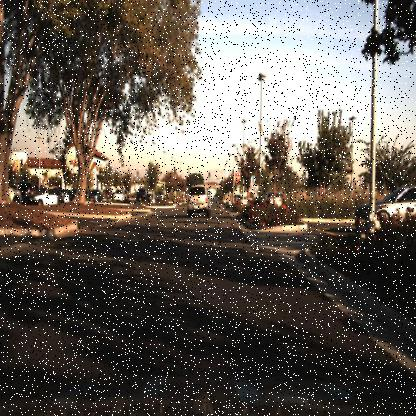car: (341, 171, 415, 243), (28, 181, 70, 211), (182, 182, 212, 223), (263, 186, 285, 212), (19, 177, 34, 206), (87, 186, 104, 204), (111, 188, 127, 204), (134, 185, 146, 205), (155, 188, 167, 206), (146, 188, 157, 204)
